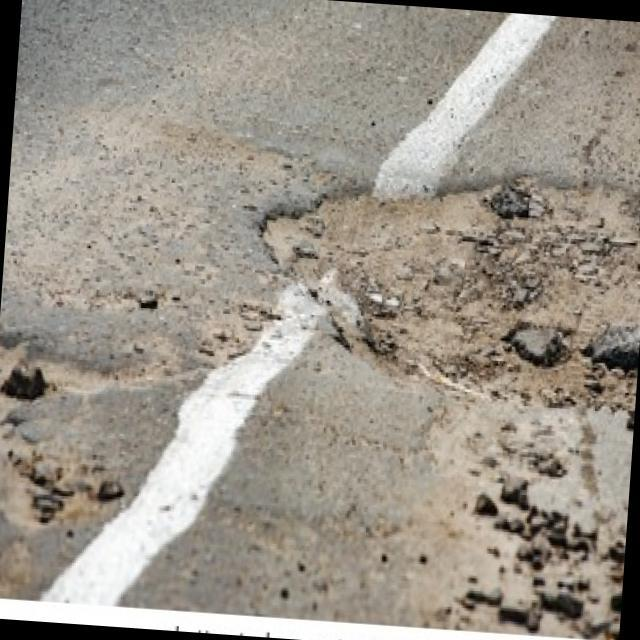Pothole: (238, 155, 640, 418), (0, 310, 150, 551)
